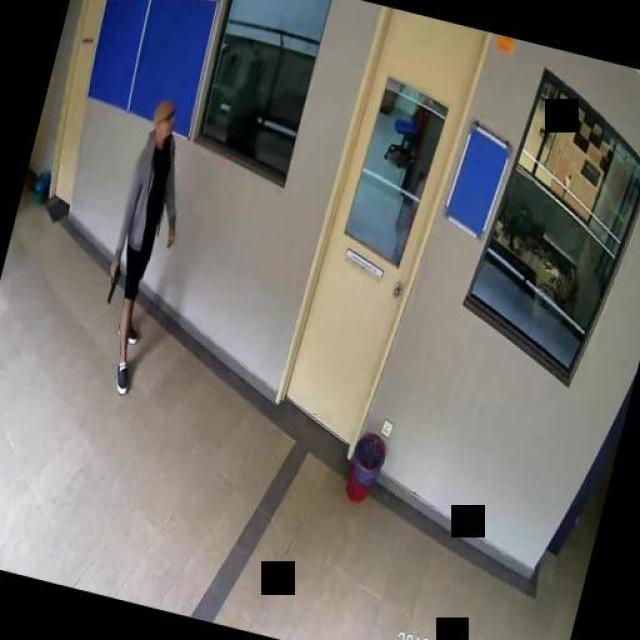gun: (98, 258, 126, 306)
